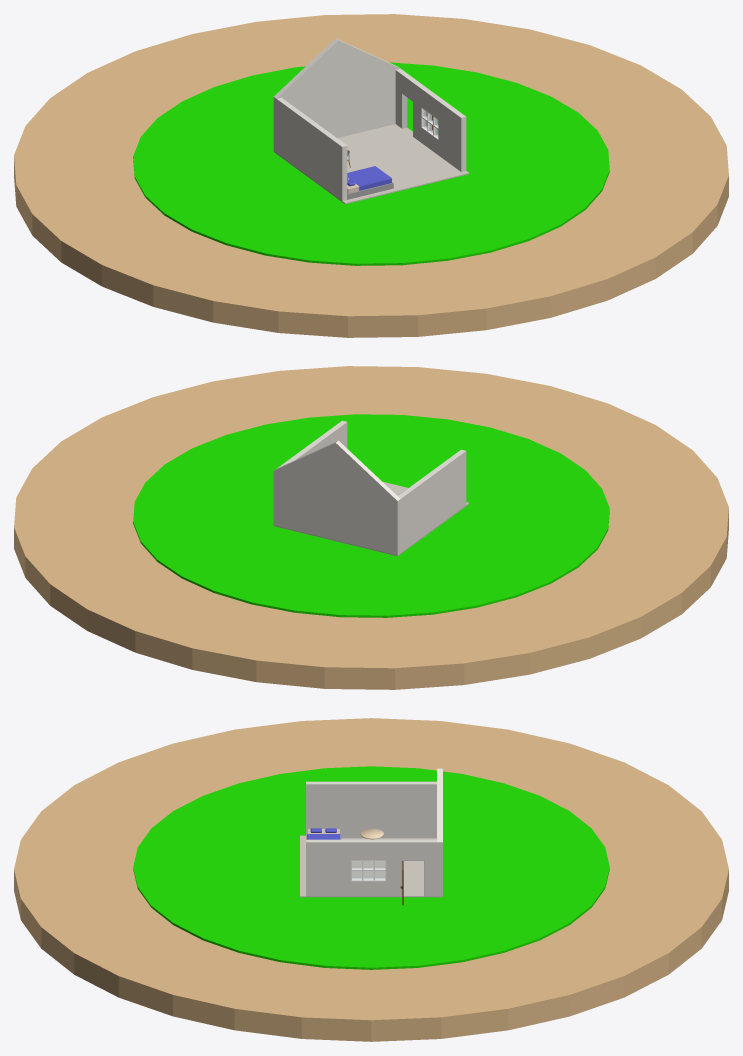
File: housesizereference.glb
The picture shows the model from 3 angles, top to bottom: view 1: azimuth 30°, elevation 25°; view 2: azimuth 150°, elevation 25°; view 3: azimuth 270°, elevation 25°; orthographic projection.
Parts seen in each view (by area): view 1: map, Wall_back, Floor_1, Wall_left, Wall_right, Gable_back, Bed; view 2: map, Wall_back, Wall_left, Gable_back, Wall_right; view 3: map, Wall_left, Wall_right, Floor_1, Wide Window.
Boxes of the visible parts, bbox=[...] form: map: bbox=[14, 14, 728, 337]; Wall_back: bbox=[273, 70, 395, 152]; Floor_1: bbox=[273, 124, 469, 204]; Wall_left: bbox=[276, 97, 347, 200]; Wall_right: bbox=[395, 68, 466, 171]; Gable_back: bbox=[274, 38, 400, 98]; Bed: bbox=[347, 166, 393, 199]; map: bbox=[14, 366, 728, 689]; Wall_back: bbox=[273, 471, 400, 555]; Wall_left: bbox=[398, 449, 466, 552]; Gable_back: bbox=[274, 440, 400, 500]; Wall_right: bbox=[278, 420, 347, 467]; map: bbox=[14, 718, 728, 1041]; Wall_left: bbox=[306, 781, 436, 838]; Wall_right: bbox=[306, 839, 436, 896]; Floor_1: bbox=[300, 835, 442, 897]; Wide Window: bbox=[350, 860, 386, 881].
Bounding box in the file's own units: 60 × 11.3 × 60.
